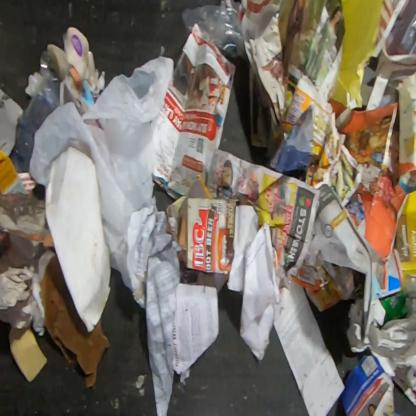cardboard: (393, 190, 416, 290)
soft_plastic: (28, 54, 175, 289), (9, 50, 61, 174), (181, 0, 251, 70)
